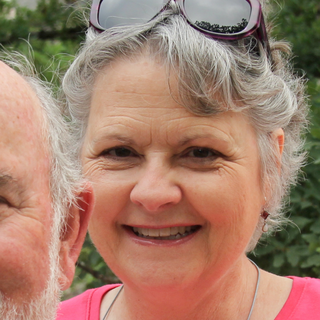eye: (163, 135, 228, 169), (90, 136, 152, 169)
